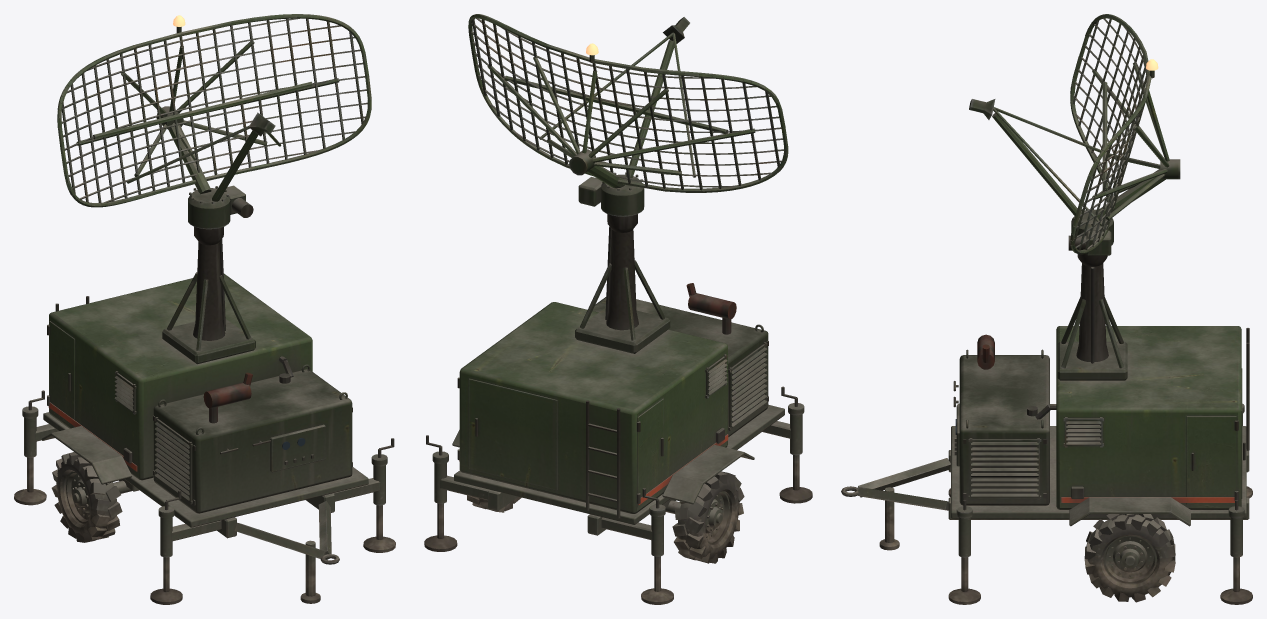
File: Weathered_Radar.fbx
3 views of the same model, side by side, from view 1: azimuth 30°, elevation 25°; view 2: azimuth 150°, elevation 25°; view 3: azimuth 270°, elevation 25° (orthographic).
Visible parts, largest first — view 1: Enemy_Radar_Mesh, Turret; view 2: Enemy_Radar_Mesh, Turret; view 3: Enemy_Radar_Mesh, Turret.
Part boxes in pixels (x1,y1,x2,y2): Enemy_Radar_Mesh: (14,227,395,604); Turret: (57,14,371,229); Enemy_Radar_Mesh: (424,214,812,604); Turret: (468,14,788,216); Enemy_Radar_Mesh: (841,254,1252,604); Turret: (969,14,1180,255).
Size of the model in its own units: 2.84 by 4.29 by 3.29.
